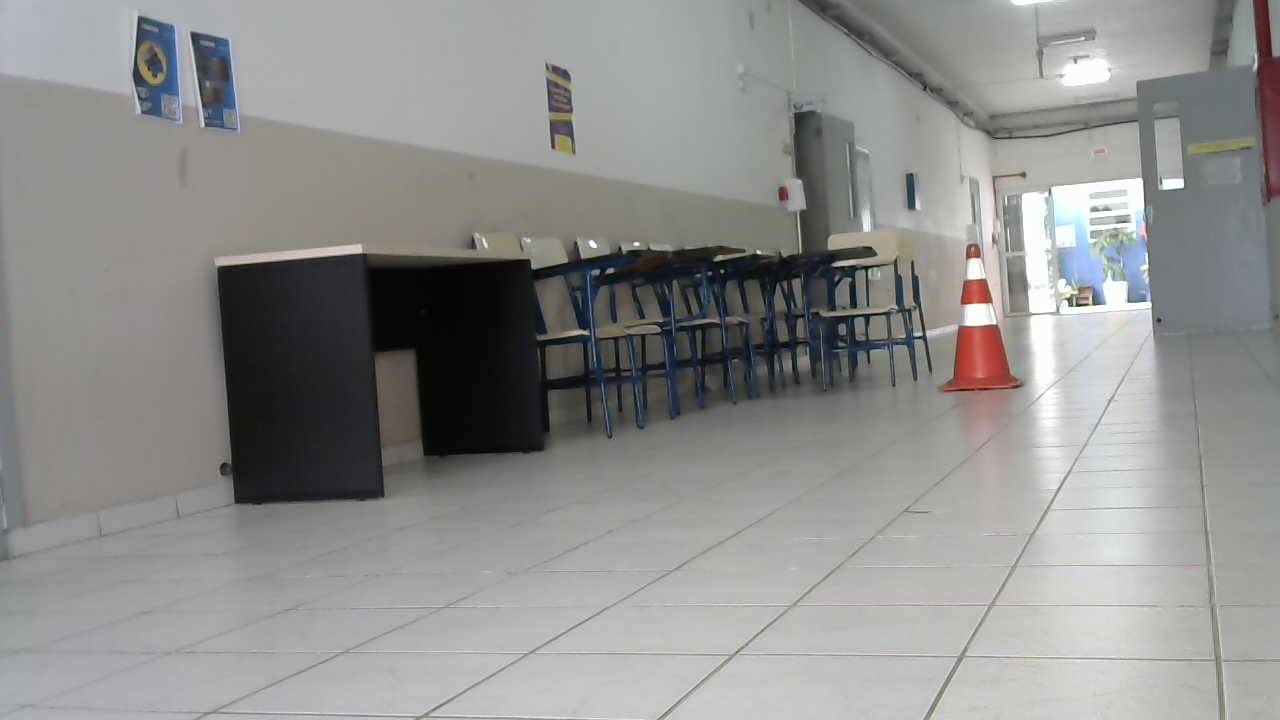cone: (941, 242, 1023, 393)
